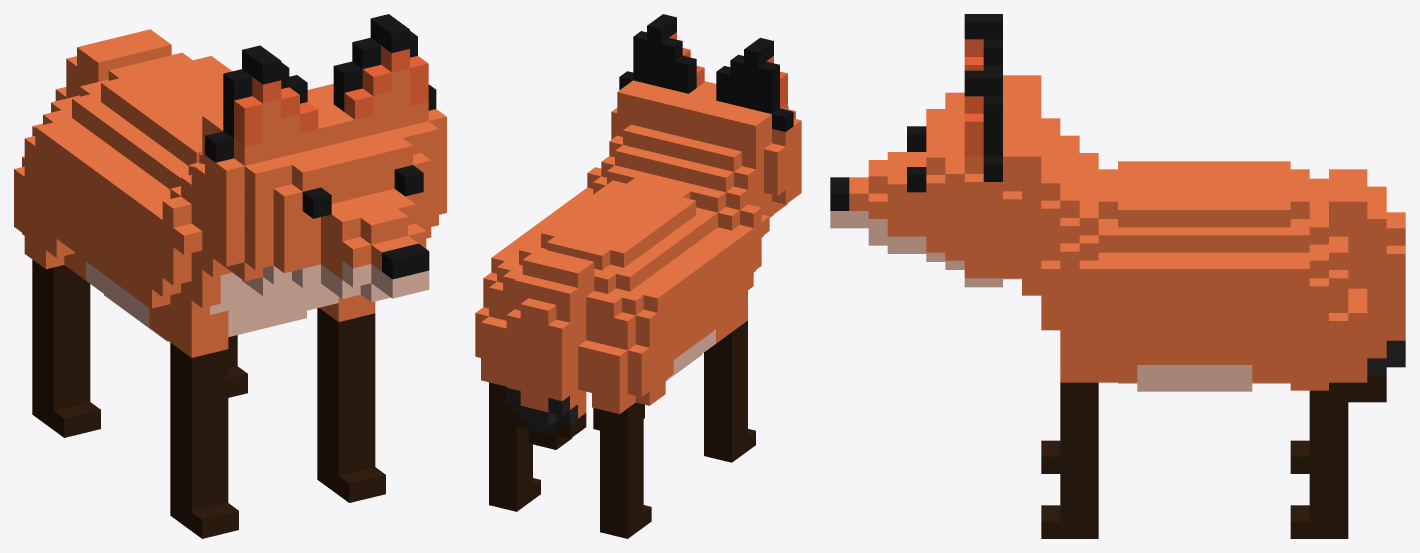
Rendered from fox.obj.
3 renders of one model, left to right at view 1: azimuth 30°, elevation 25°; view 2: azimuth 150°, elevation 25°; view 3: azimuth 270°, elevation 25°, orthographic. The views are drawn at different scales.
Bounding box in the file's own units: 1.2 × 2.6 × 3.
1 material, 1 textured.
